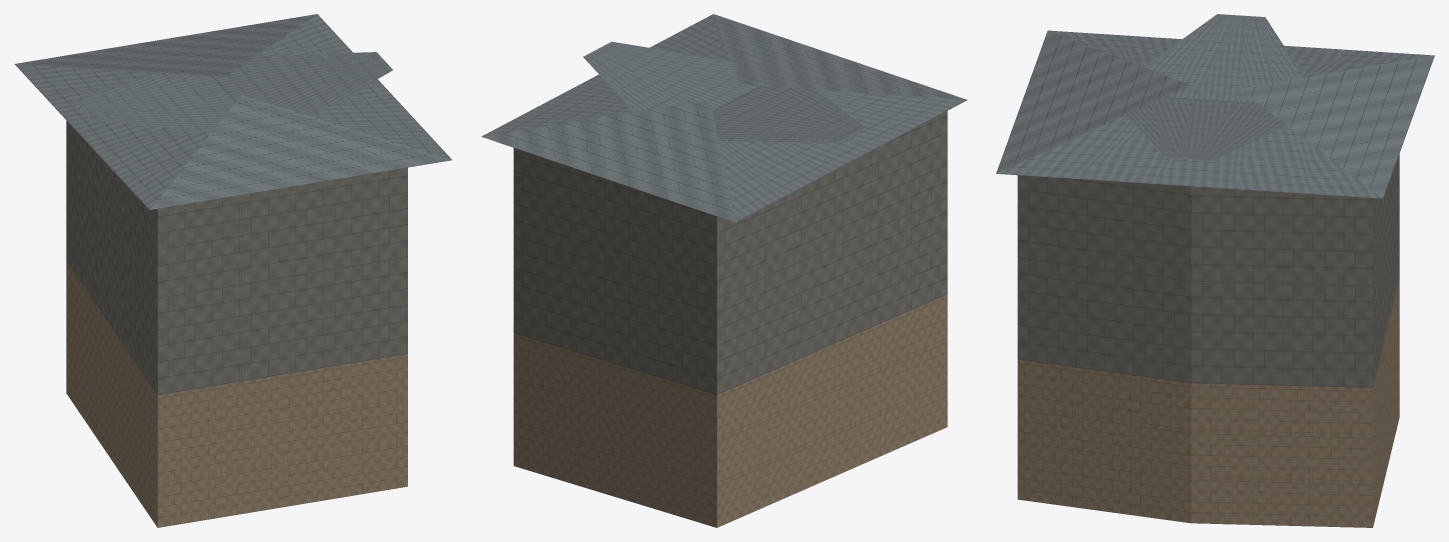
File: bld_c21_45_396.gltf
The picture shows the model from 3 angles, left to right: view 1: azimuth 30°, elevation 25°; view 2: azimuth 150°, elevation 25°; view 3: azimuth 270°, elevation 25°; orthographic projection. The views are drawn at different scales.
Parts seen in each view (by area): view 1: bld_c21_45_396; view 2: bld_c21_45_396; view 3: bld_c21_45_396.
Part boxes in pixels (box(x1,y1,x2,y2)): bld_c21_45_396: box(14, 14, 452, 527); bld_c21_45_396: box(481, 14, 967, 527); bld_c21_45_396: box(996, 14, 1434, 527).
Size of the model in its own units: 13.14 by 13.5 by 14.48.
3 materials, 3 textured.
